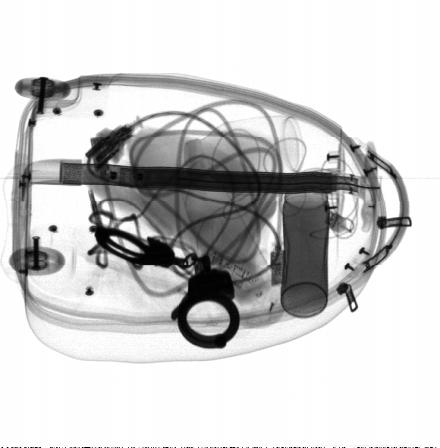HandCuffs: (93, 223, 240, 349)
